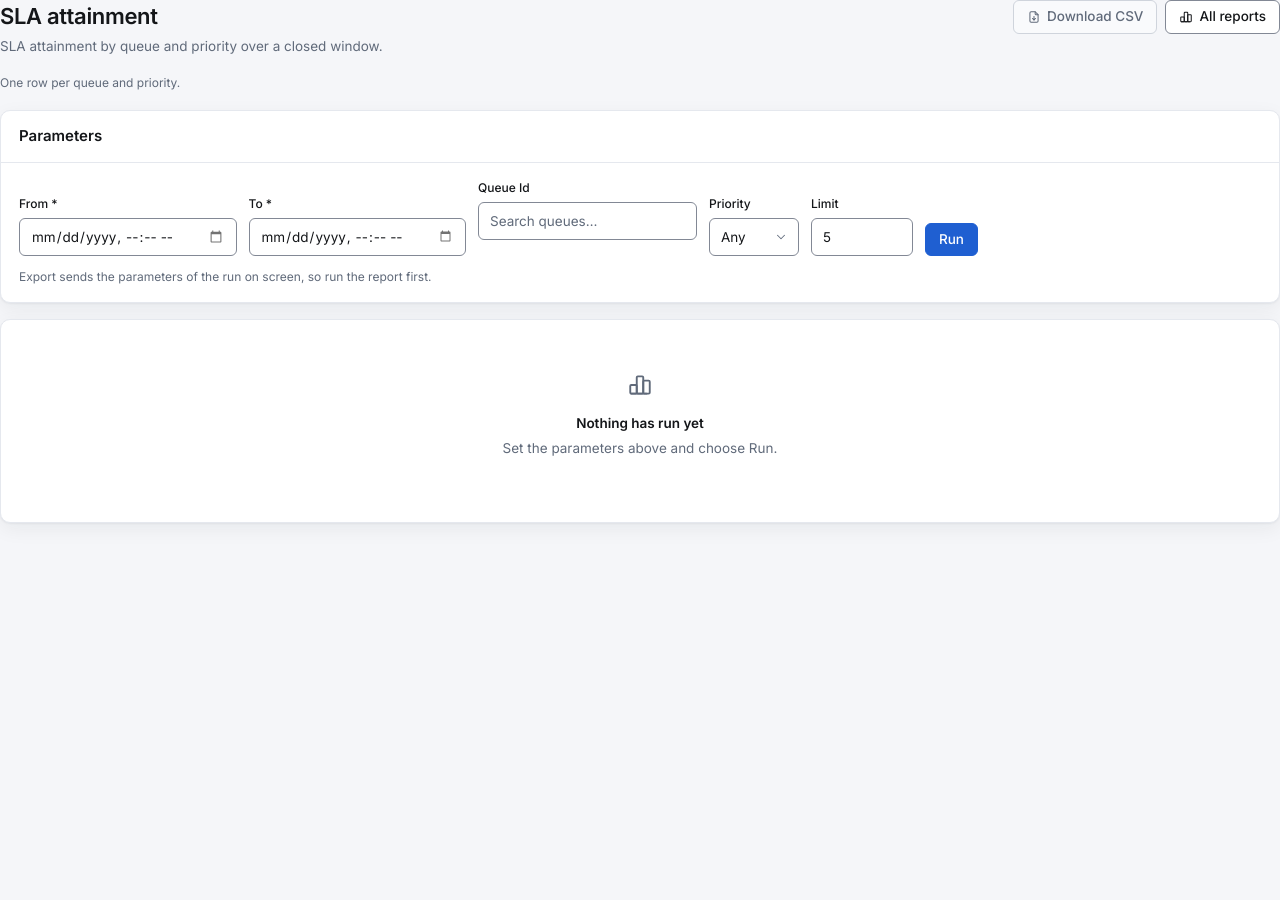
Test: the figure on a run report › draws met against breached, from the server's totals, with the window in the title
Type "2026-07-01T09:00" into the field labelled "From" at (128, 237), box [19,218,236,256]
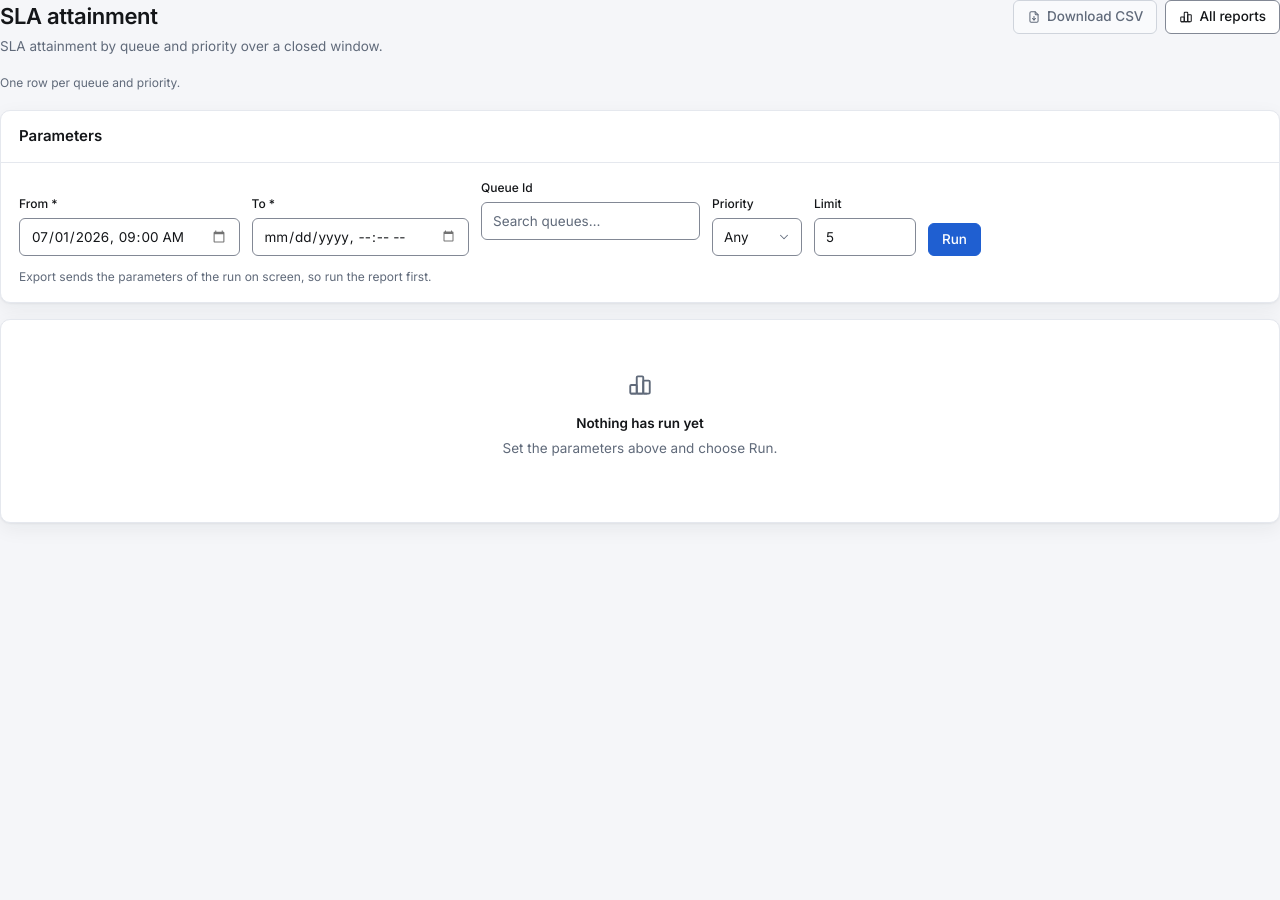
Type "2026-08-19T09:00" into the field labelled "To" at (360, 237), box [252,218,469,256]
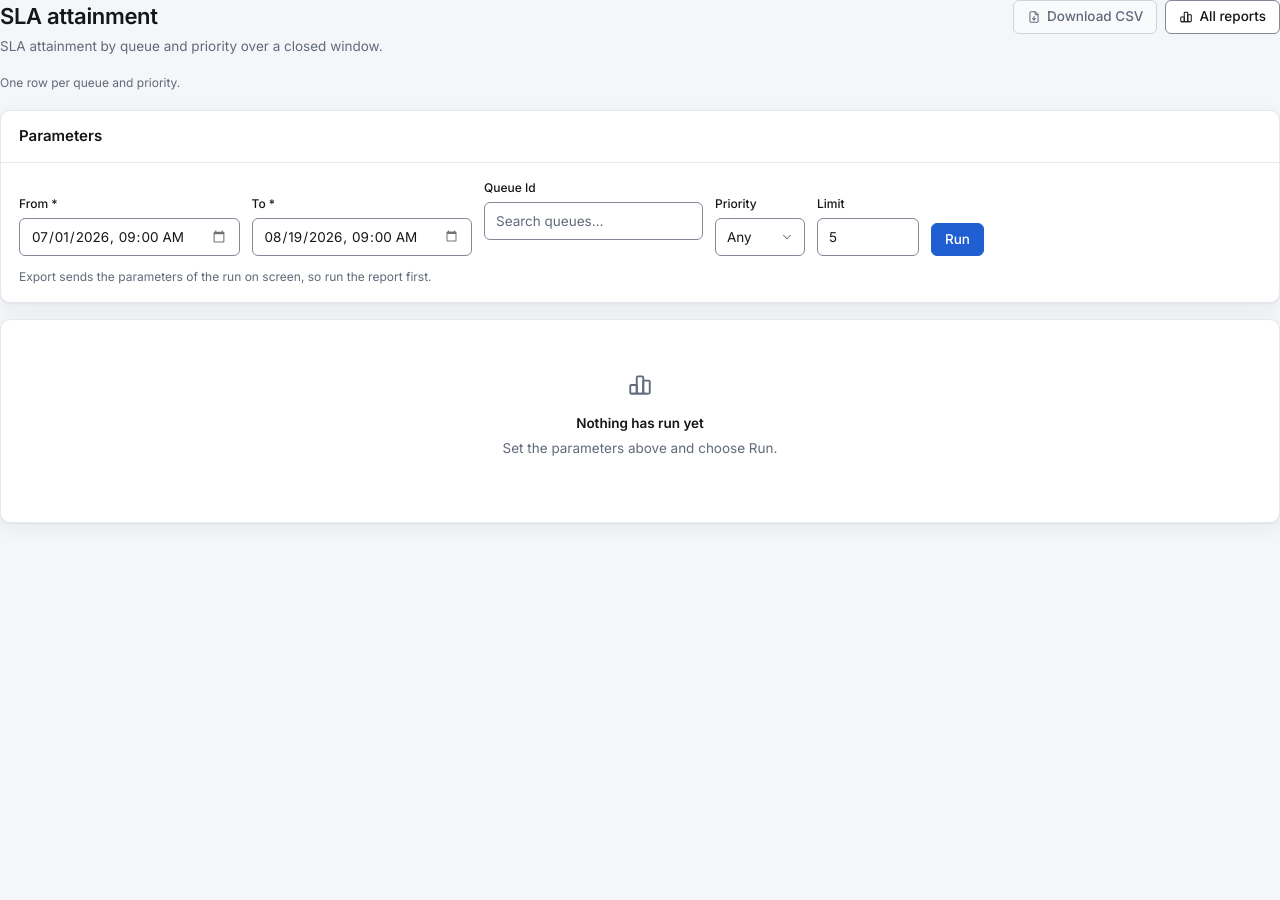
Click the button "Run" at (958, 239), box [931,222,984,256]
(page scrolled)
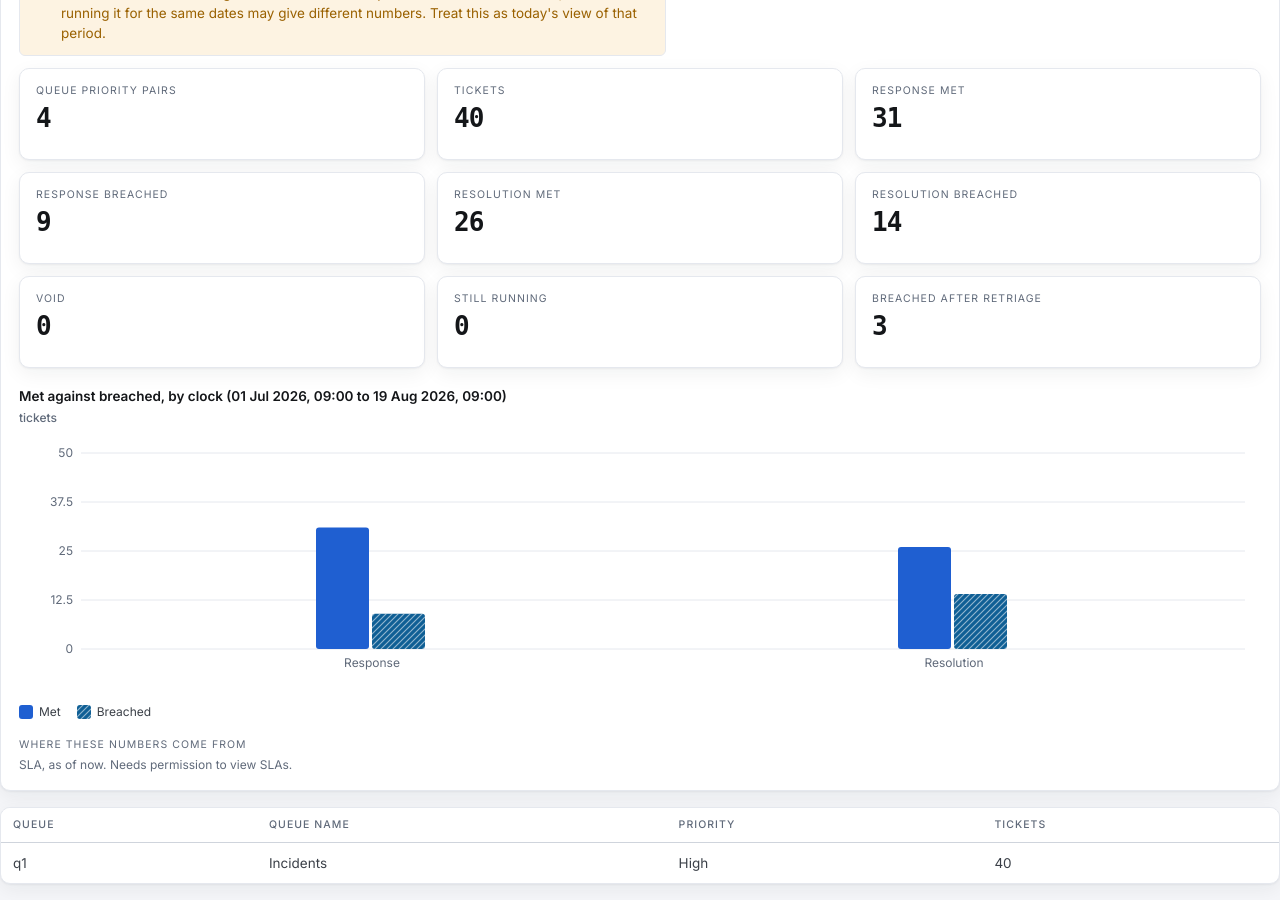
Expected: the text "Met against breached, by clock" is shown, [19,388,507,404]
Expected: the text "1 Jul 2026" is shown, [19,388,507,404]
Expected: the text "tickets" is shown, [19,410,57,424]
